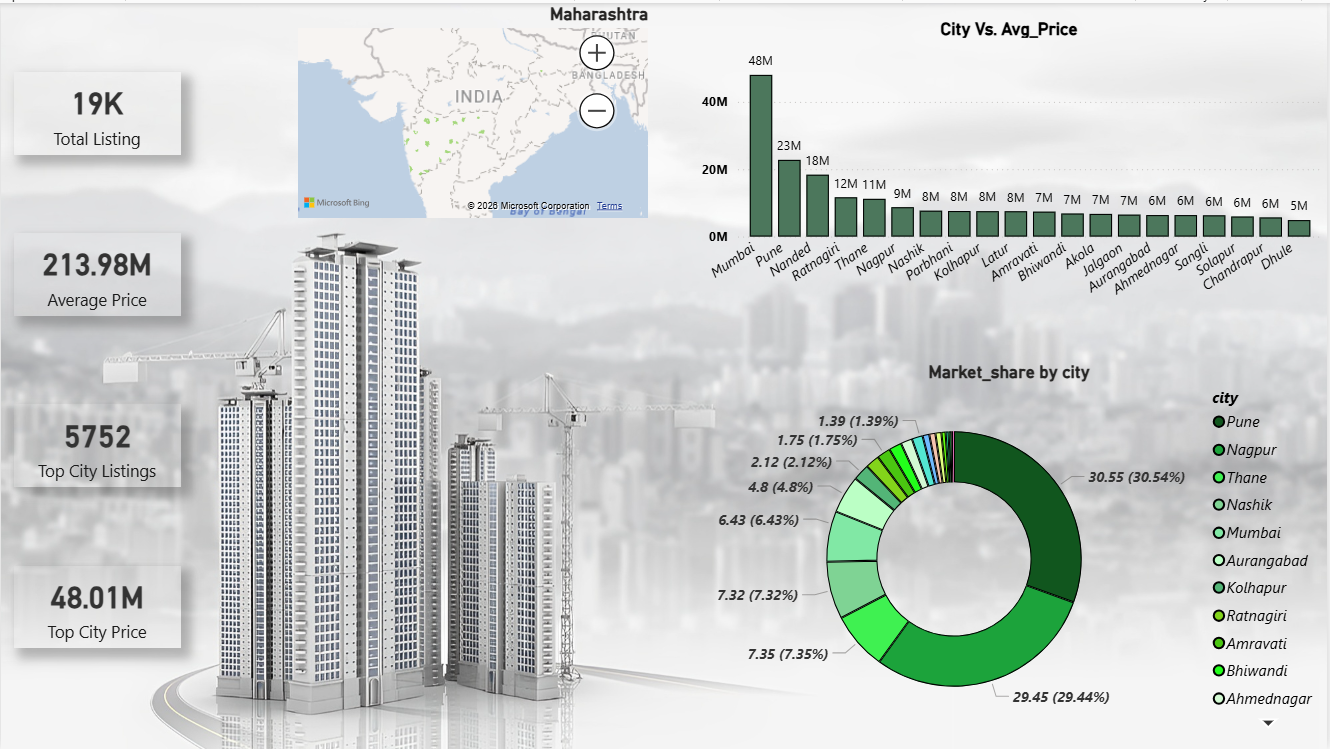

Layout of this report page (visuals, bound fields, positions):
{"tool":"powerbi","page":{"name":"Page 1","canvas":[1280,720],"ordinal":0},"visuals":[{"type":"card","fields":{"Values":["city wise price & supply.Top City Listings"]},"box":[12.1,387.3,161.7,79.6],"z":0},{"type":"donutChart","title":"Market_share by city","fields":{"Category":["market share of each city.city"],"Y":["Sum(market share of each city.market_share)"]},"box":[666,346.2,614.1,361.9],"z":1000},{"type":"columnChart","title":"City Vs. Avg_Price","fields":{"Category":["city wise price & supply.city"],"Y":["Sum(city wise price & supply.avg_price)"]},"box":[666,14.5,614.1,287.1],"z":2000},{"type":"filledMap","title":"Maharashtra","fields":{"Category":["maharashtra.City"]},"box":[282.3,0,347.5,212.3],"z":3000},{"type":"card","fields":{"Values":["city wise price & supply.Top City Price"]},"box":[12.1,542.9,161.7,79.6],"z":3001},{"type":"card","fields":{"Values":["Sum(city wise price & supply.total_listings)"]},"box":[12.1,66.4,161.7,79.6],"z":3002},{"type":"card","fields":{"Values":["Sum(city wise price & supply.avg_price)"]},"box":[12.1,222,161.7,79.6],"z":3003}]}

Visuals, with their boxes in screenshot pixels (x1, y1, x2, y2), scaled from the page's 1280x720 canvas onto the 1330x749 screenshot:
card - city wise price & supply.Top City Listings: l=13, t=403, r=181, b=486
"Market_share by city" donutChart: l=692, t=360, r=1329, b=737
"City Vs. Avg_Price" columnChart: l=692, t=15, r=1329, b=314
"Maharashtra" filledMap: l=293, t=0, r=654, b=221
card - city wise price & supply.Top City Price: l=13, t=565, r=181, b=648
card - Sum(city wise price & supply.total_listings): l=13, t=69, r=181, b=152
card - Sum(city wise price & supply.avg_price): l=13, t=231, r=181, b=314
